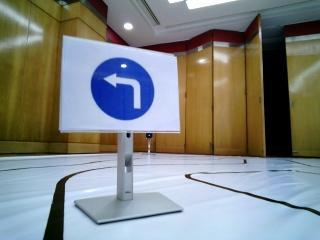left: (65, 53, 172, 131)
